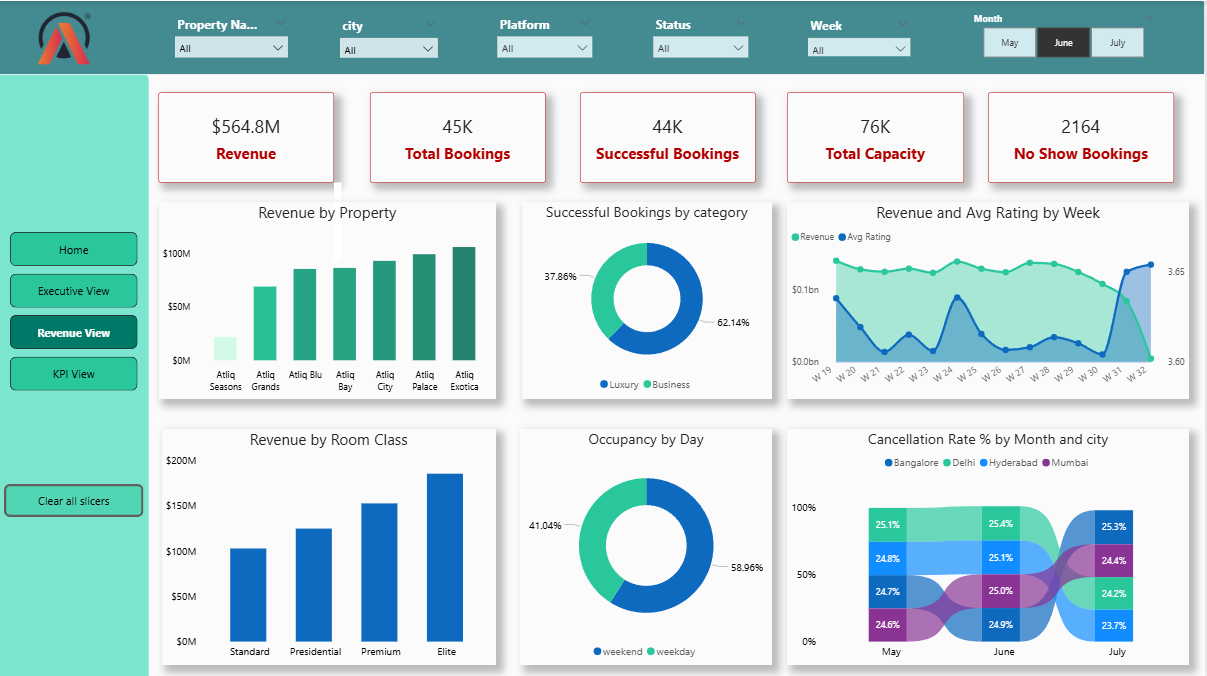

The dashboard page shown, as its layout file describes it:
{"tool":"powerbi","page":{"name":"Revenue View","canvas":[1600,900],"ordinal":2},"visuals":[{"type":"card","fields":{"Values":["Key Measures.Total Bookings"]},"box":[493.1,121.3,232.6,119.3],"z":0},{"type":"card","fields":{"Values":["Key Measures.Revenue"]},"box":[212.7,121.3,232.6,119.3],"z":1000},{"type":"card","fields":{"Values":["Key Measures.Revenue"]},"box":[445.4,240.6,9.9,103.4],"z":2000},{"type":"card","fields":{"Values":["Key Measures.Total Successful Bookings"]},"box":[771.4,121.3,232.6,119.3],"z":3000},{"type":"card","fields":{"Values":["Key Measures.Total Capacity"]},"box":[1045.8,121.3,234.6,119.3],"z":4000},{"type":"clusteredColumnChart","title":"Revenue by Property","fields":{"Y":["Key Measures.Revenue"],"Category":["dim_hotels.property_name"]},"box":[212.7,266.4,447.4,260.5],"z":5000},{"type":"donutChart","title":" Successful Bookings by category","fields":{"Y":["Key Measures.Total Successful Bookings"],"Category":["dim_hotels.category"]},"box":[693.9,266.4,332,260.5],"z":6000},{"type":"clusteredColumnChart","title":"Revenue by Room Class","fields":{"Category":["dim_rooms.room_class"],"Y":["Key Measures.Revenue"]},"box":[216.7,566.7,443.4,314.1],"z":7000},{"type":"donutChart","title":"Occupancy by Day","fields":{"Y":["Key Measures.Occupancy %"],"Category":["dim_date.day_type"]},"box":[691.9,566.7,334,314.1],"z":8000},{"type":"lineChart","title":"Revenue and Avg Rating by Week","fields":{"Y":["Key Measures.Revenue"],"Category":["dim_date.week no"],"Y2":["Key Measures.Avg Rating"]},"box":[1045.8,266.4,532.9,260.5],"z":9000},{"type":"ribbonChart","title":"Cancellation Rate % by Month  and city","fields":{"Category":["dim_date.Month Name"],"Y":["Key Measures.Cancellation Rate %"],"Series":["dim_hotels.city"]},"box":[1045.8,566.7,532.9,314.1],"z":10000},{"type":"shape","box":[0,0,1600.6,97.4],"z":11000},{"type":"slicer","fields":{"Values":["dim_date.Month Name"]},"box":[1280.4,9.9,262.5,71.6],"z":12000},{"type":"image","box":[15.9,8,145.1,81.5],"z":13000},{"type":"slicer","fields":{"Values":["dim_hotels.property_name"]},"box":[224.7,13.9,169,63.6],"z":14000},{"type":"slicer","fields":{"Values":["dim_hotels.city"]},"box":[442.6,15.7,149.1,59.6],"z":15000},{"type":"slicer","fields":{"Values":["dim_date.Week_No"]},"box":[1063.7,15.9,155.1,57.7],"z":16000},{"type":"slicer","fields":{"Values":["fact_bookings.booking_status"]},"box":[858.5,13.8,145.1,63.6],"z":17000},{"type":"slicer","fields":{"Values":["fact_bookings.booking_platform"]},"box":[652.5,13.8,145.1,63.6],"z":18000},{"type":"shape","box":[0,96.7,200,803.3],"z":19000},{"type":"card","fields":{"Values":["Key Measures.No Show Bookings"]},"box":[1312.3,121.3,246.5,119.3],"z":20000},{"type":"pageNavigator","box":[15.9,306.2,169,210.8],"z":21000},{"type":"actionButton","box":[8,640.2,184.9,43.7],"z":22000}]}

Visuals, with their boxes in screenshot pixels (x1, y1, x2, y2), scaled from the page's 1600x900 canvas onto the 1207x676 screenshot:
card - Key Measures.Total Bookings: region(372, 91, 547, 181)
card - Key Measures.Revenue: region(160, 91, 336, 181)
card - Key Measures.Revenue: region(336, 181, 343, 258)
card - Key Measures.Total Successful Bookings: region(582, 91, 757, 181)
card - Key Measures.Total Capacity: region(789, 91, 966, 181)
"Revenue by Property" clusteredColumnChart: region(160, 200, 498, 396)
" Successful Bookings by category" donutChart: region(523, 200, 774, 396)
"Revenue by Room Class" clusteredColumnChart: region(163, 426, 498, 662)
"Occupancy by Day" donutChart: region(522, 426, 774, 662)
"Revenue and Avg Rating by Week" lineChart: region(789, 200, 1191, 396)
"Cancellation Rate % by Month  and city" ribbonChart: region(789, 426, 1191, 662)
shape: region(0, 0, 1206, 73)
slicer - dim_date.Month Name: region(966, 7, 1164, 61)
image: region(12, 6, 121, 67)
slicer - dim_hotels.property_name: region(170, 10, 297, 58)
slicer - dim_hotels.city: region(334, 12, 446, 57)
slicer - dim_date.Week_No: region(802, 12, 919, 55)
slicer - fact_bookings.booking_status: region(648, 10, 757, 58)
slicer - fact_bookings.booking_platform: region(492, 10, 602, 58)
shape: region(0, 73, 151, 675)
card - Key Measures.No Show Bookings: region(990, 91, 1176, 181)
pageNavigator: region(12, 230, 139, 388)
actionButton: region(6, 481, 146, 514)
